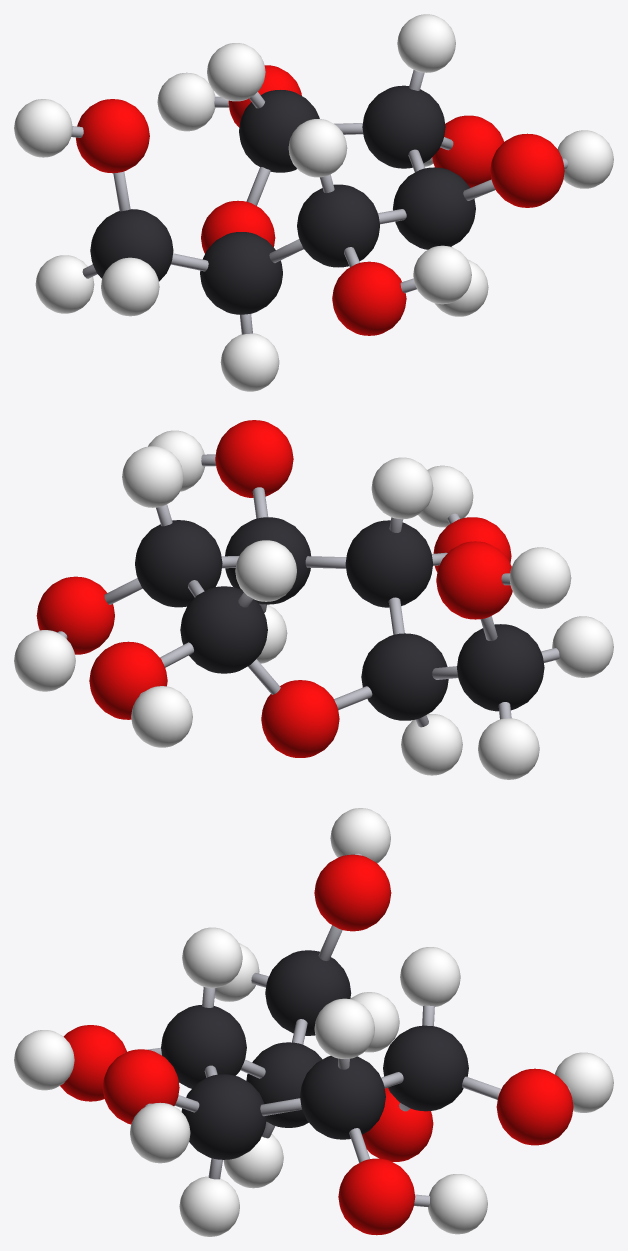
File: glucose.glb
3 renders of one model, top to bottom at view 1: azimuth 30°, elevation 25°; view 2: azimuth 150°, elevation 25°; view 3: azimuth 270°, elevation 25°, orthographic. The views are drawn at different scales.
Parts seen in each view (by area): view 1: C2, C6, C10, C8, O9, O11, O0, C4, C1, O7, H18, H12 (+11 smaller); view 2: C10, C4, C2, C1, C6, O3, O9, O0, O7, O5, H22, H16 (+13 smaller); view 3: C4, C6, C8, C10, C1, O0, O5, O7, O9, C2, O11, O3 (+12 smaller).
Boxes of the visible parts, x1,y1,x2,y2 form: C2: (200, 232, 282, 314); C6: (362, 85, 445, 168); C10: (297, 184, 379, 267); C8: (393, 167, 475, 249); O9: (490, 133, 564, 207); O11: (332, 261, 406, 335); O0: (76, 99, 149, 173); C4: (239, 90, 319, 172); C1: (90, 209, 173, 281); O7: (432, 115, 503, 187); H18: (397, 14, 455, 72); H12: (14, 99, 72, 157); C10: (345, 520, 432, 607); C4: (180, 586, 267, 673); C2: (361, 633, 448, 720); C1: (457, 624, 544, 711); C6: (135, 520, 222, 607); O3: (261, 680, 339, 757); O9: (215, 420, 293, 497); O0: (436, 541, 512, 619); O7: (36, 576, 114, 654); O5: (89, 641, 167, 719); H22: (371, 457, 433, 519); H16: (235, 540, 296, 601); C4: (383, 1025, 468, 1111); C6: (300, 1055, 385, 1139); C8: (181, 1074, 266, 1159); C10: (161, 1005, 246, 1088); C1: (265, 950, 351, 1035); O0: (314, 854, 391, 931); O5: (496, 1068, 573, 1145); O7: (338, 1158, 415, 1235); O9: (102, 1049, 179, 1124); C2: (246, 1042, 322, 1127); O11: (60, 1025, 126, 1101); O3: (362, 1087, 433, 1161).
Size of the model in its own units: 7 by 3.88 by 7.12.
